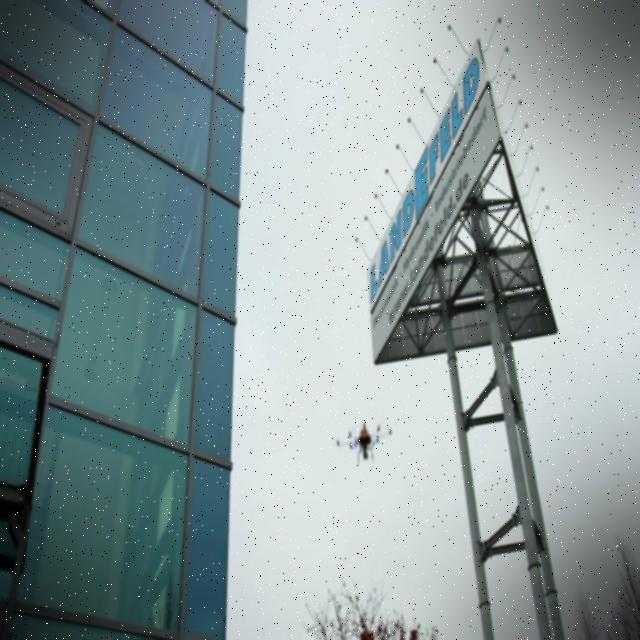UAV: (336, 423, 394, 466)
